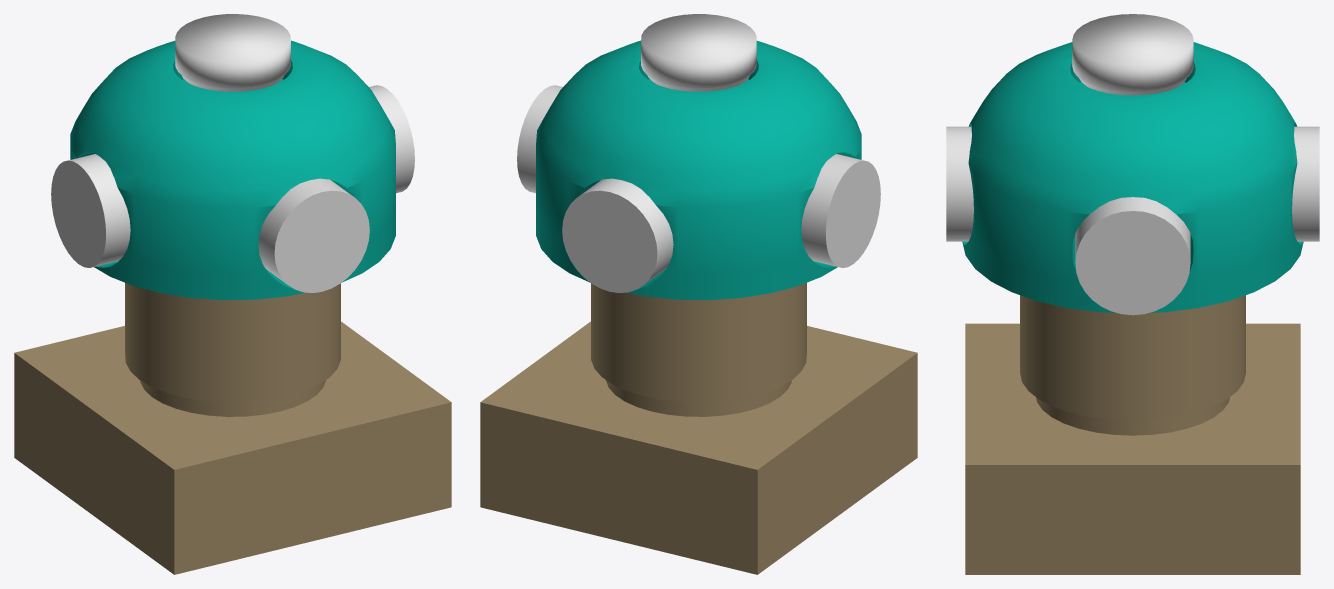
File: mushroom_4.glb
The picture shows the model from 3 angles, left to right: view 1: azimuth 30°, elevation 25°; view 2: azimuth 150°, elevation 25°; view 3: azimuth 270°, elevation 25°; orthographic projection. The views are drawn at different scales.
Visible parts, largest first — view 1: 立方体; view 2: 立方体; view 3: 立方体.
Part boxes in pixels (x1=…): 立方体: x1=14, y1=14, x2=451, y2=574; 立方体: x1=480, y1=14, x2=917, y2=574; 立方体: x1=946, y1=14, x2=1319, y2=574.
Size of the model in its own units: 0.0881 by 0.121 by 0.0881.
